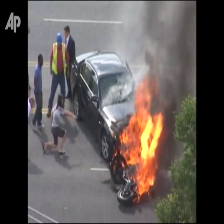fire_h: (111, 81, 163, 199)
fire_l: (112, 159, 118, 173), (112, 149, 117, 158), (121, 161, 125, 167)
